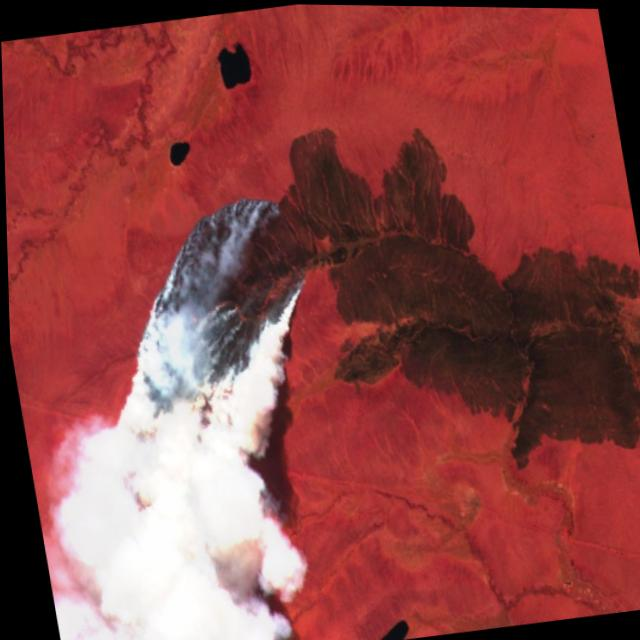fire: (72, 182, 340, 513)
